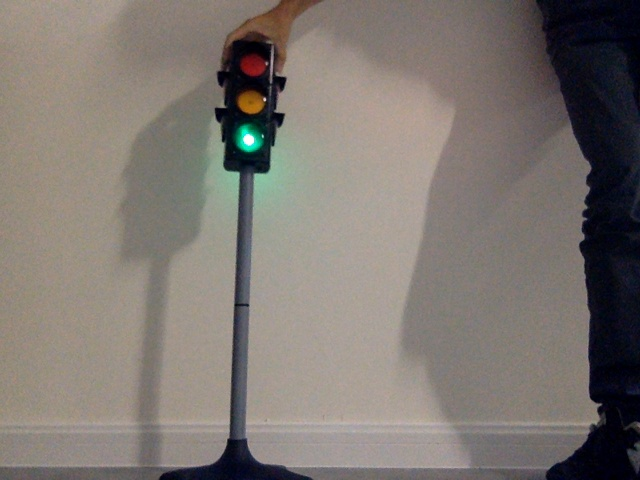green: (231, 52, 265, 159)
